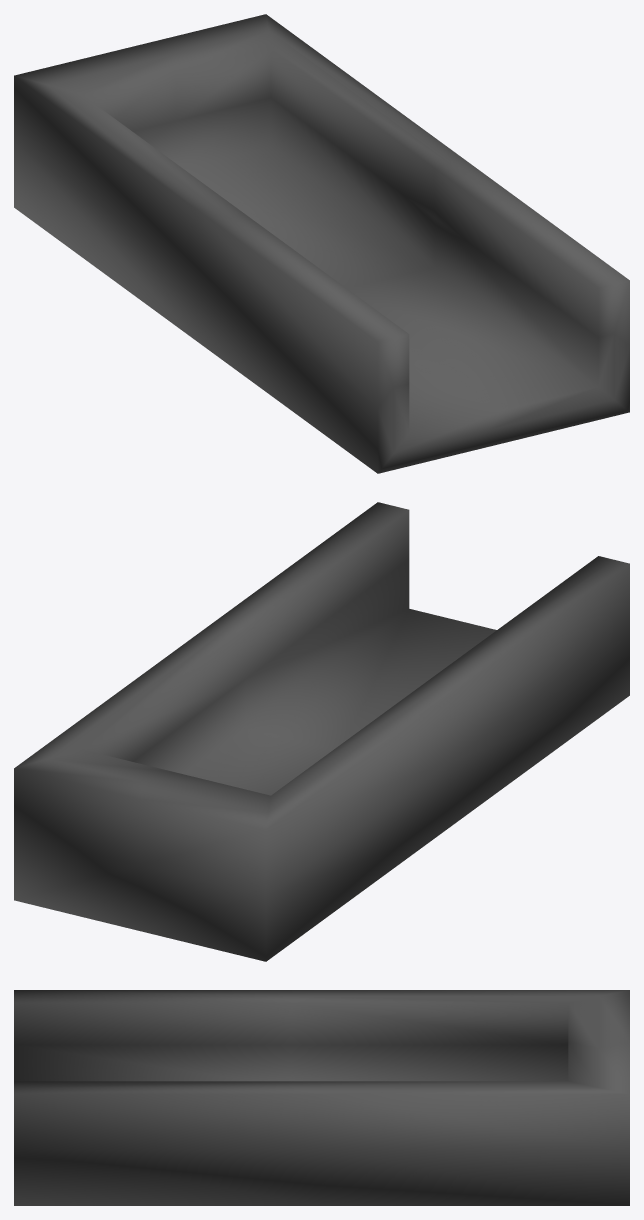
The picture shows the model from 3 angles, top to bottom: view 1: azimuth 30°, elevation 25°; view 2: azimuth 150°, elevation 25°; view 3: azimuth 270°, elevation 25°; orthographic projection. The views are drawn at different scales.
Parts seen in each view (by area): view 1: defaultobject; view 2: defaultobject; view 3: defaultobject.
Boxes of the visible parts, <box> form: defaultobject: <box>14,14,629,473</box>; defaultobject: <box>14,502,629,961</box>; defaultobject: <box>14,990,629,1205</box>.
Bounding box in the file's own units: 0.25 × 0.125 × 0.625.
1 material, 1 textured.
